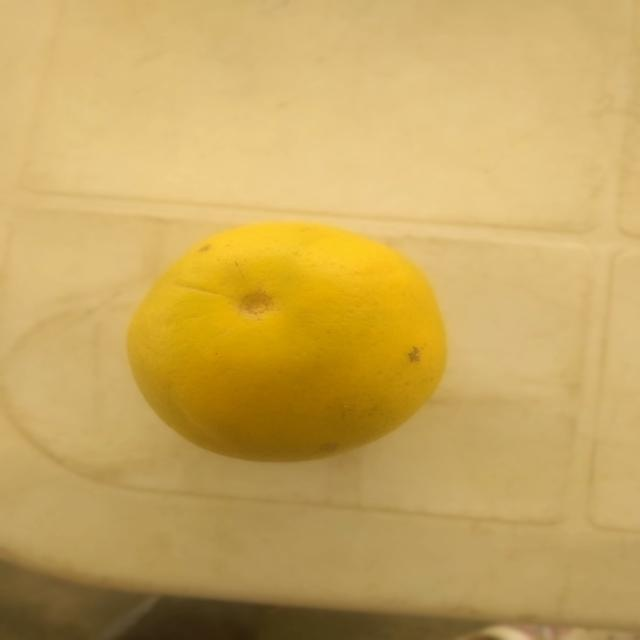agrume: (104, 206, 465, 486)
